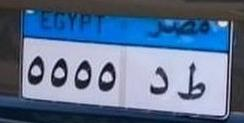5: (71, 58, 94, 94), (95, 62, 118, 95), (47, 58, 70, 90), (25, 54, 46, 88)
Taa: (175, 58, 209, 106)
daal: (147, 66, 170, 99)
